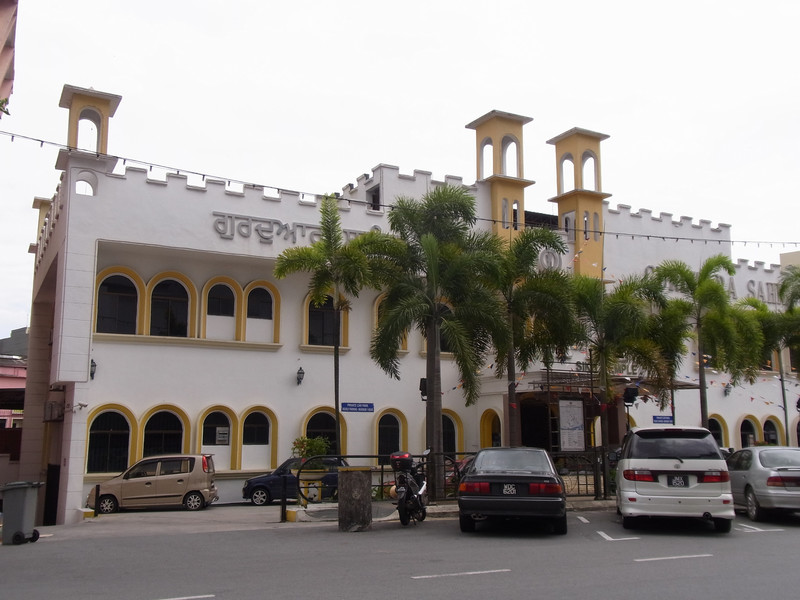Gurdwara: (43, 63, 744, 485)
